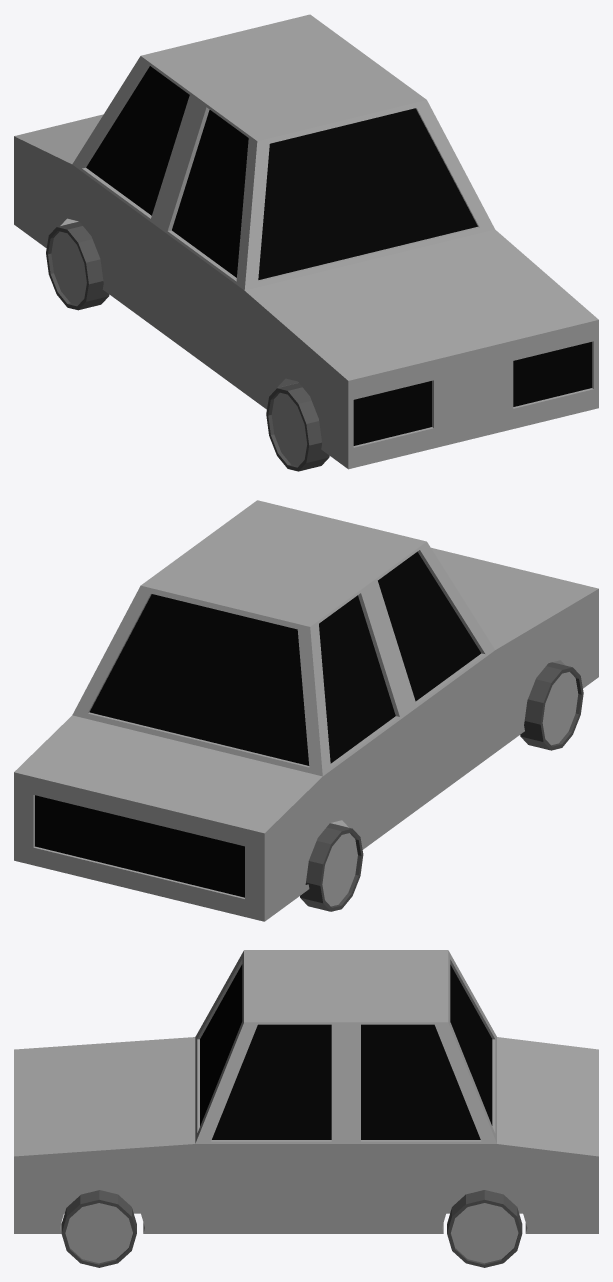
The model's file is voiture1.fbx.
3 renders of one model, top to bottom at view 1: azimuth 30°, elevation 25°; view 2: azimuth 150°, elevation 25°; view 3: azimuth 270°, elevation 25°, orthographic. The views are drawn at different scales.
Parts seen in each view (by area): view 1: Cylinder.000; view 2: Cylinder.000; view 3: Cylinder.000.
Boxes of the visible parts, box(x1,y1,x2,y2) form: Cylinder.000: box(14, 14, 598, 471); Cylinder.000: box(14, 500, 598, 921); Cylinder.000: box(14, 950, 598, 1267).
Size of the model in its own units: 654 by 575 by 1371.
